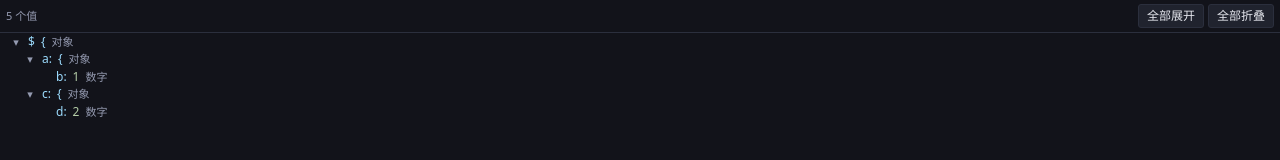
JsonTree › 折叠状态按节点独立，互不影响
What coordinates should you click on to do the following:
click the button named "折叠 $.a"
I would click on:
 (30, 59)
Its box is [24,51,36,67].
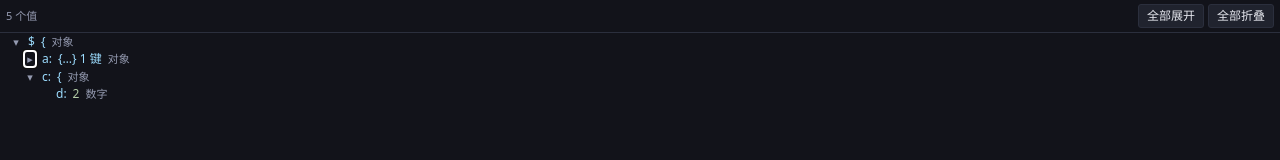
What coordinates should you click on to do the following:
click the button named "折叠 $.c"
I would click on:
 (30, 76)
Its box is [24,69,36,84].
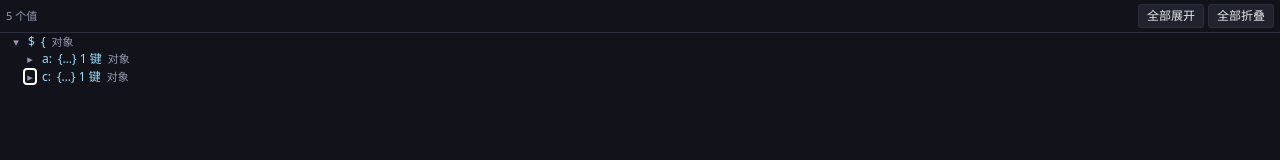
What coordinates should you click on to do the following:
click the button named "展开 $.a"
I would click on:
 (30, 59)
Its box is [24,51,36,67].
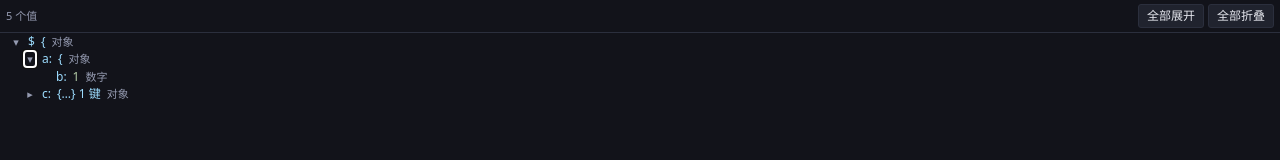
Check: the button named "展开 $.c" is collapsed, box [24,86,36,102]
Check: the button named "折叠 $.a" is expanded, box [24,51,36,67]
